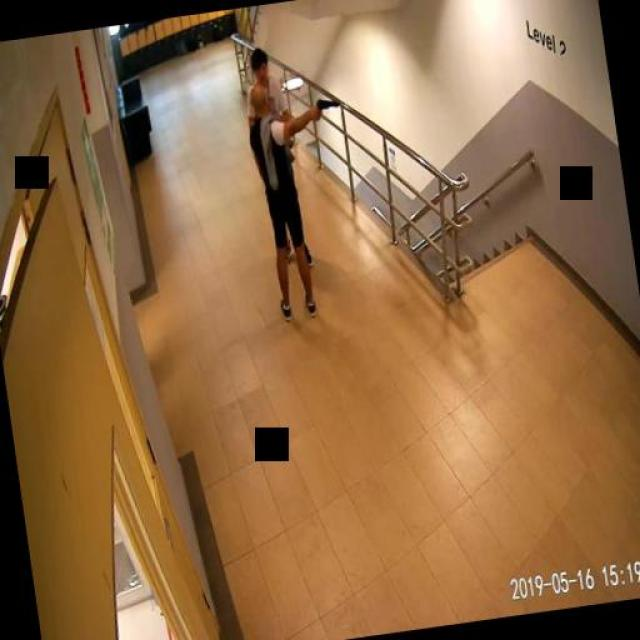gun: (311, 96, 339, 120)
